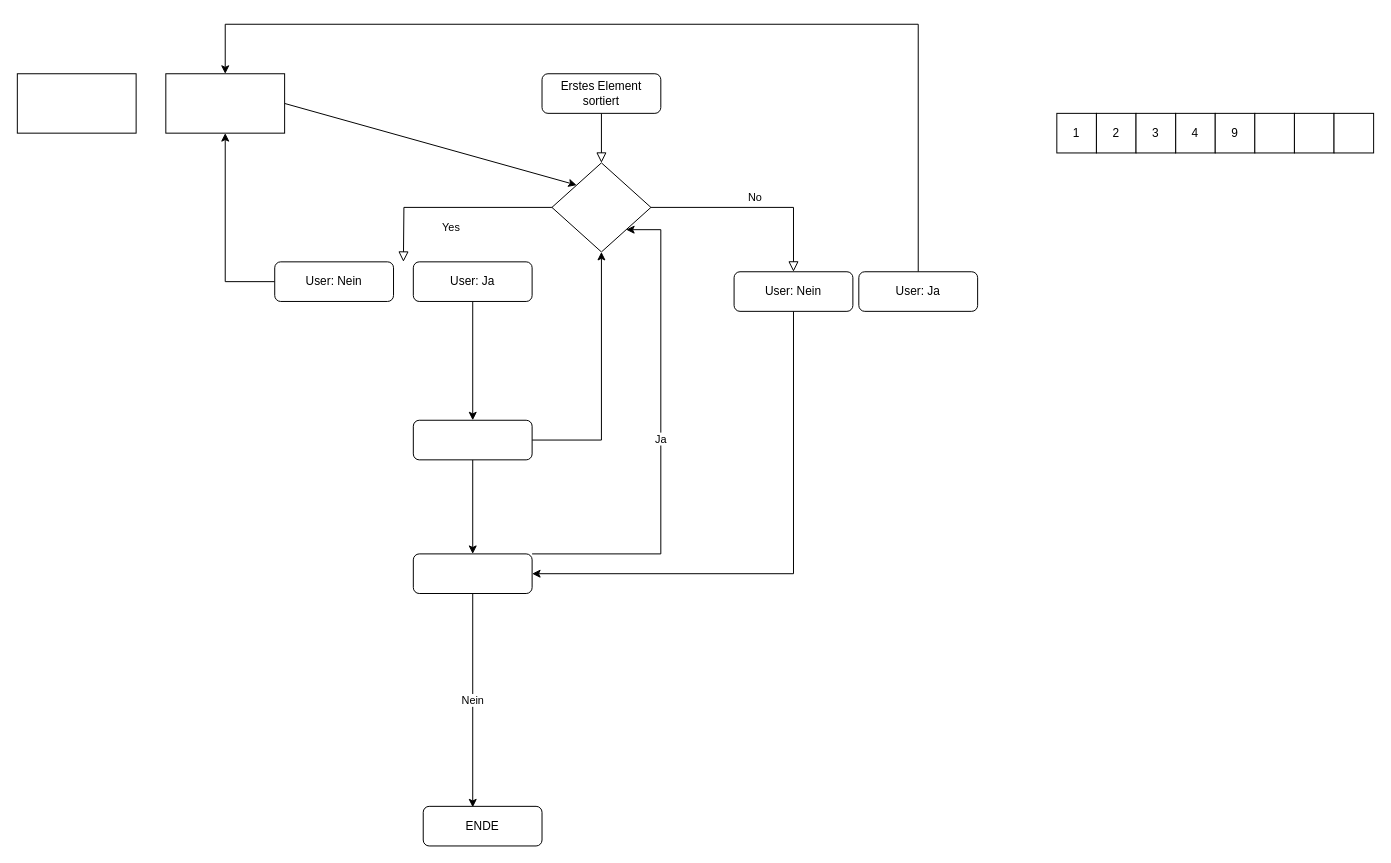
This 1391x863 diagram has some shape labels left out. Each missing label, with the box of its shape:
-Listenende -Mitten in der Liste: (16, 73, 136, 133)
Fehlermeldung st.error: (165, 73, 285, 133)
Muss getauscht werden: (551, 162, 651, 252)
Nächstes Element?: (412, 553, 532, 594)
Vertausche: (412, 419, 532, 460)
